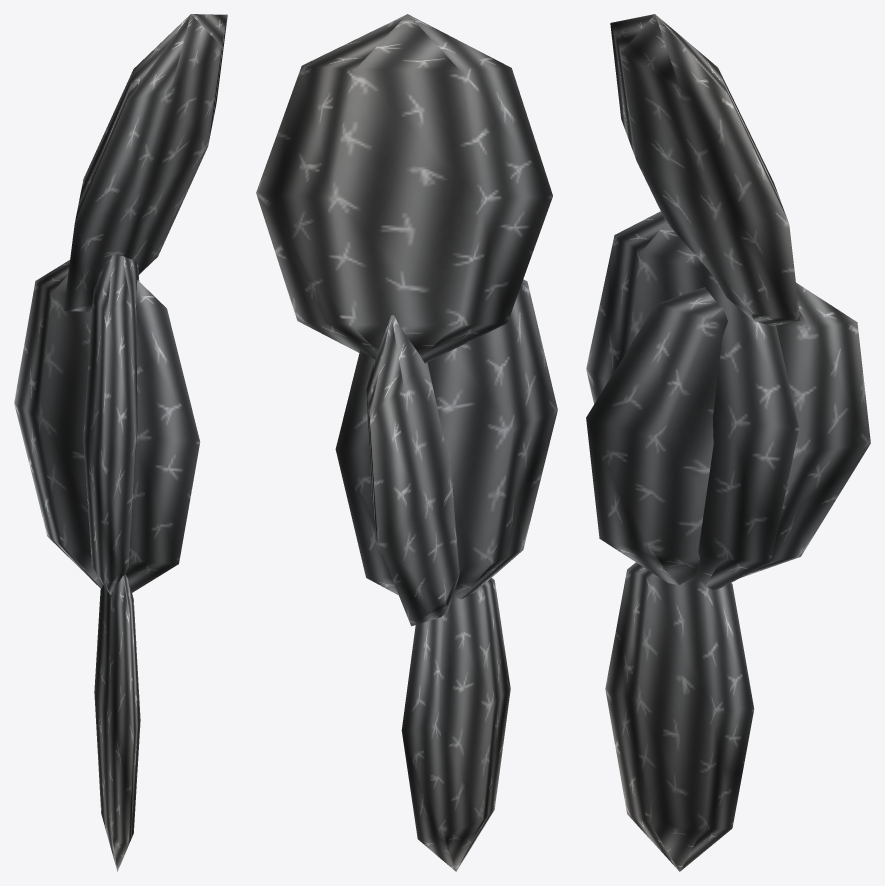
Rendered from pads_l1.gltf.
3 renders of one model, left to right at view 1: azimuth 30°, elevation 25°; view 2: azimuth 150°, elevation 25°; view 3: azimuth 270°, elevation 25°, orthographic. The views are drawn at different scales.
Parts seen in each view (by area): view 1: pads_l1; view 2: pads_l1; view 3: pads_l1.
Part boxes in pixels (bbox=[...]): pads_l1: bbox=[14, 14, 227, 871]; pads_l1: bbox=[256, 14, 557, 871]; pads_l1: bbox=[586, 14, 870, 871].
Bounding box in the file's own units: 0.5985 × 2.19 × 0.6352.
1 material, 1 textured.
